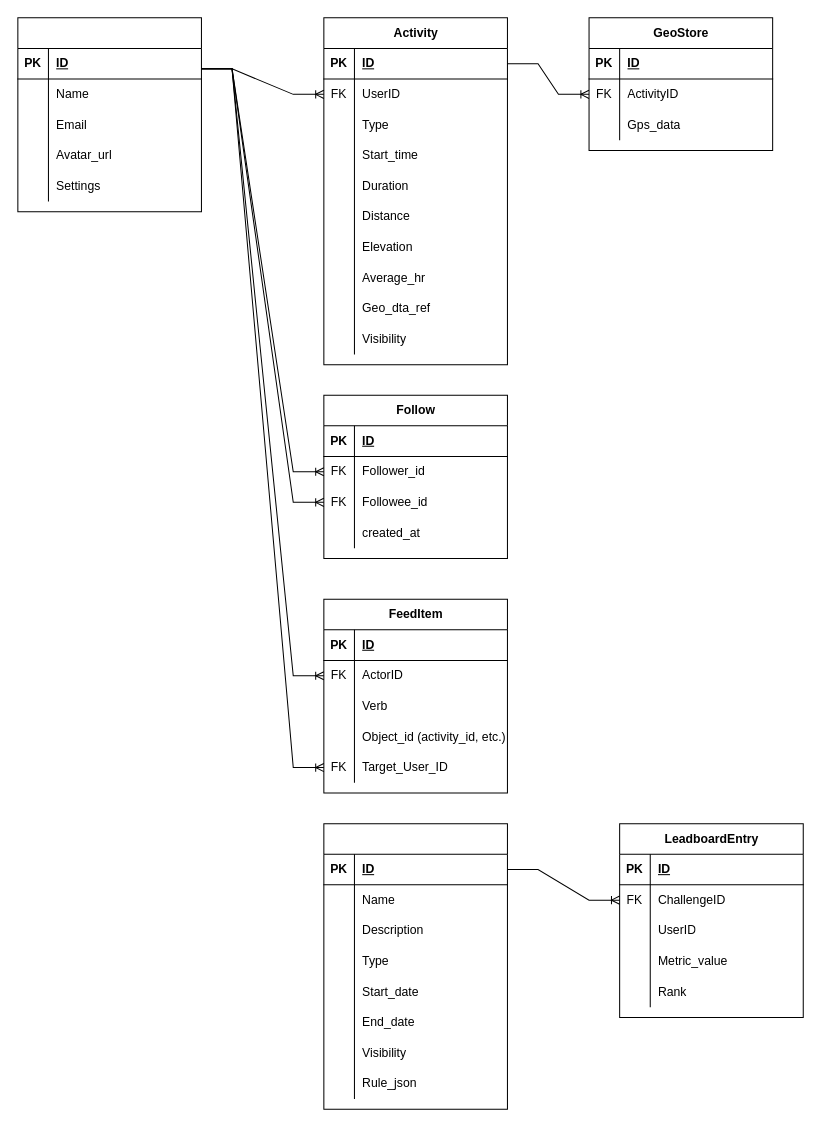
Some shapes in this 821 by 1127 pixel diagram are drawn without their labels. Here are the shapes that lost their labels. From the top down, the box of each, then its label:
(17, 17, 201, 212): User
(323, 823, 507, 1109): Challenge
